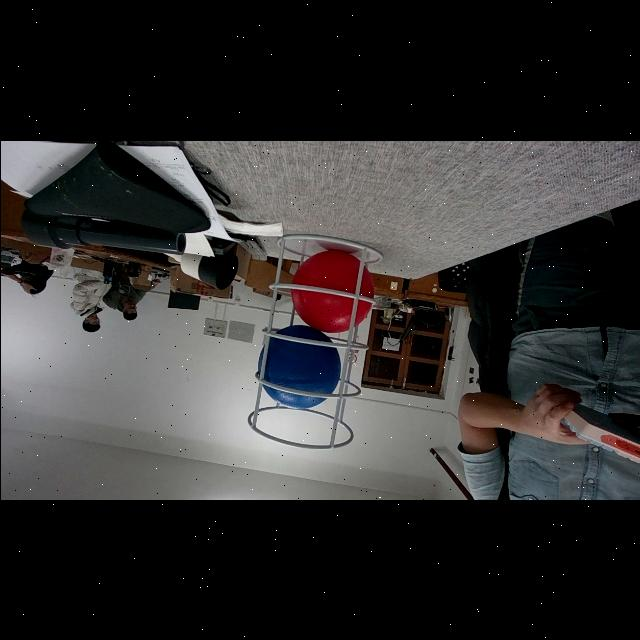B: (290, 249, 374, 333), (258, 326, 340, 408)
S: (246, 234, 382, 451)
